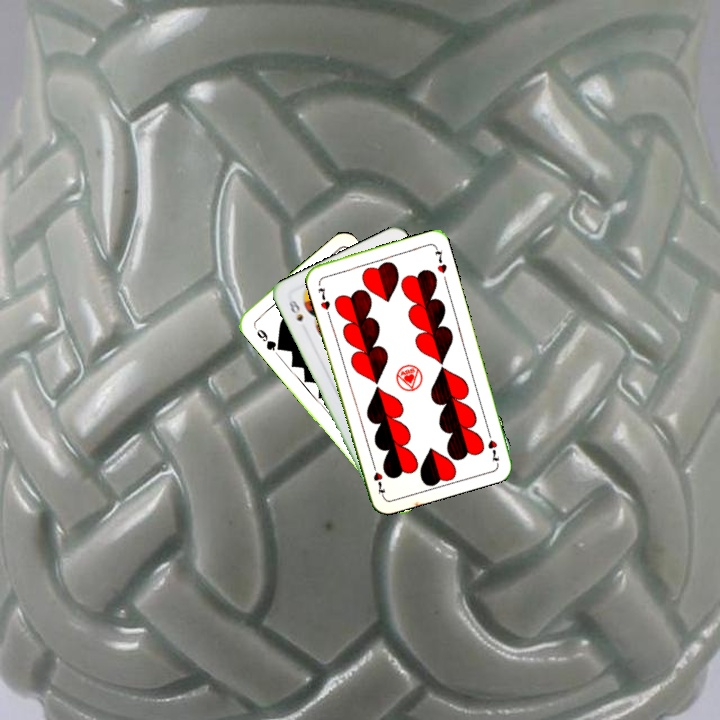G9: (250, 322, 283, 353)
H7: (483, 426, 502, 465), (314, 284, 333, 313)
S8: (283, 296, 306, 324)
